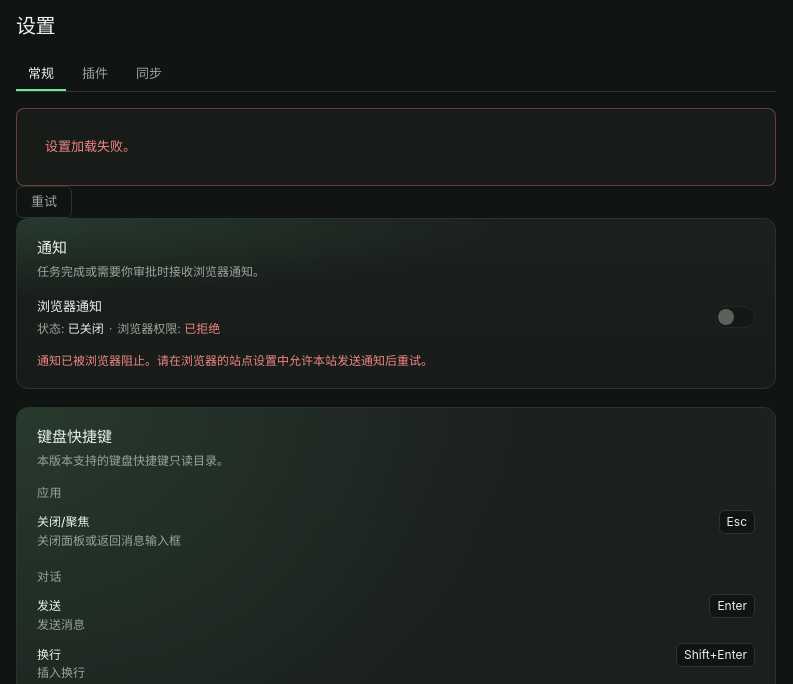
it: system settings server editor › shows a load error with retry and recovers on retry
expect the text "设置加载失败。" is shown: met, box [16,108,776,186]
Click the button "重试": coordinates (44, 202) [16,186,72,218]
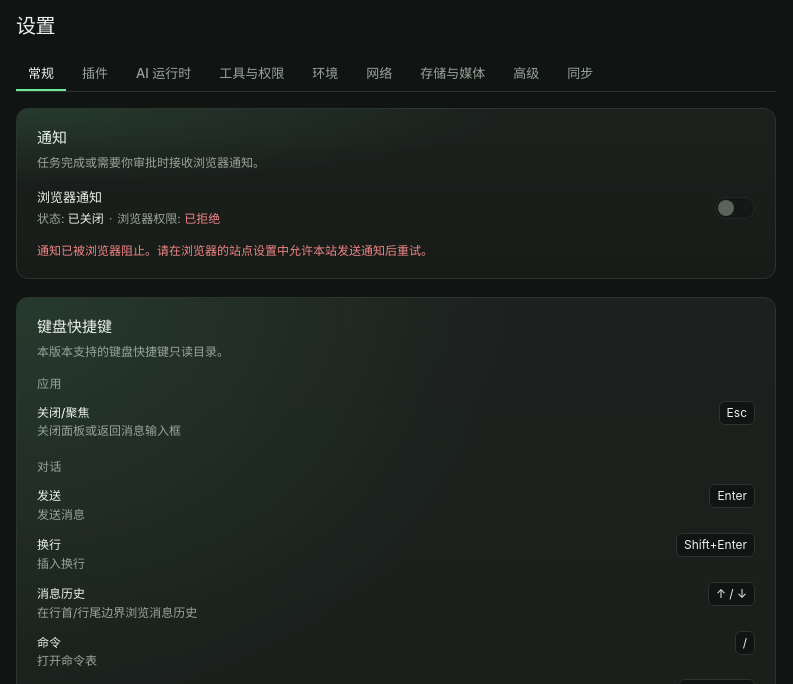
Click the tab "AI 运行时": coordinates (164, 75) [124,59,203,91]
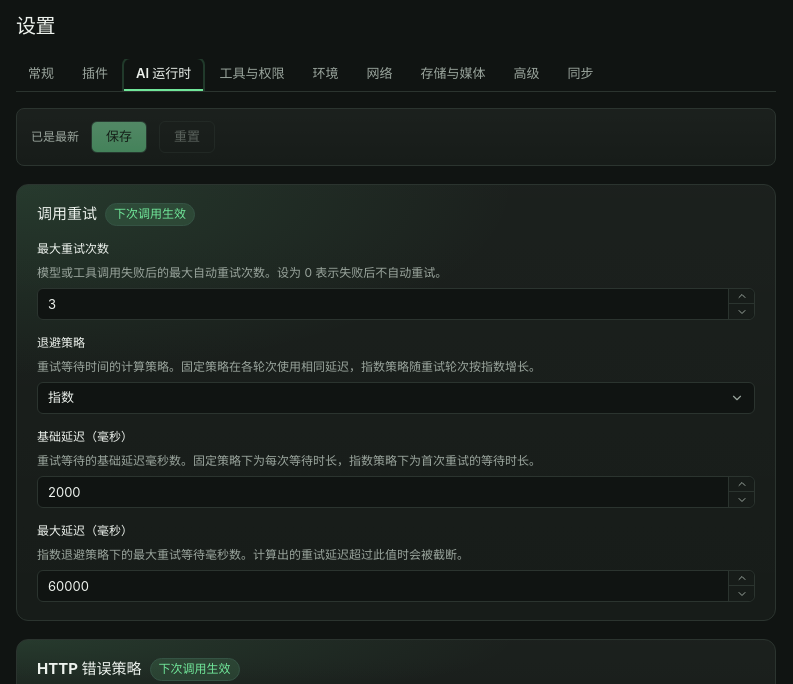
expect the field labelled "最大重试次数" holds "3": met, box [37,288,755,320]
